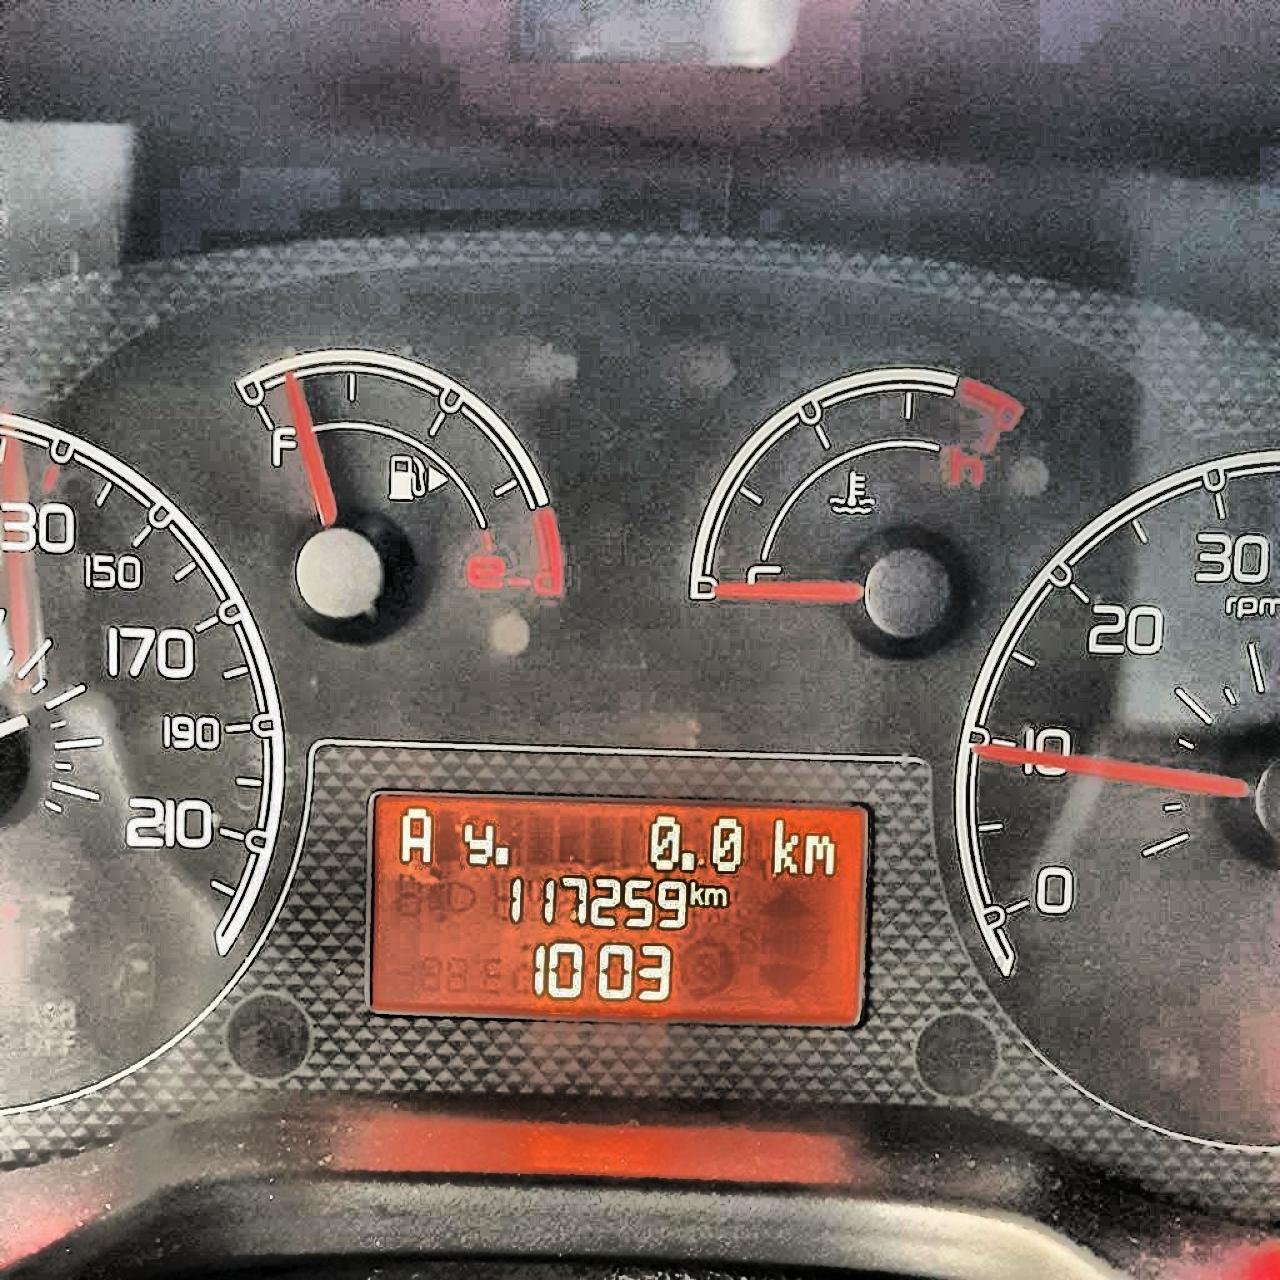-: (593, 938, 633, 1003), (546, 937, 585, 1001), (491, 839, 511, 867), (680, 846, 696, 876)
0: (707, 812, 744, 874), (644, 812, 679, 873)
1: (532, 870, 557, 926), (502, 870, 526, 926), (525, 938, 545, 999)
2: (588, 874, 620, 930)
3: (636, 942, 672, 1003)
5: (621, 876, 653, 928)
7: (558, 870, 587, 927)
9: (655, 877, 685, 932)
X: (395, 802, 434, 866), (765, 812, 799, 879), (459, 817, 492, 867), (804, 828, 836, 879), (703, 880, 729, 910), (686, 874, 703, 908)
odometer: (359, 787, 874, 1030)
